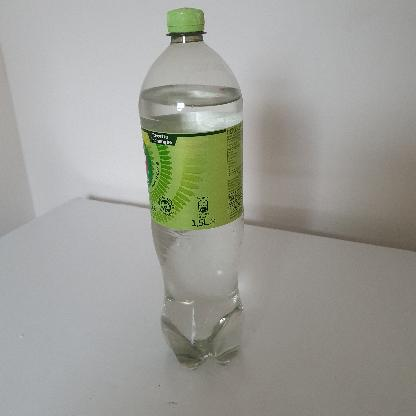Plastic Bottle: (138, 7, 244, 369)
